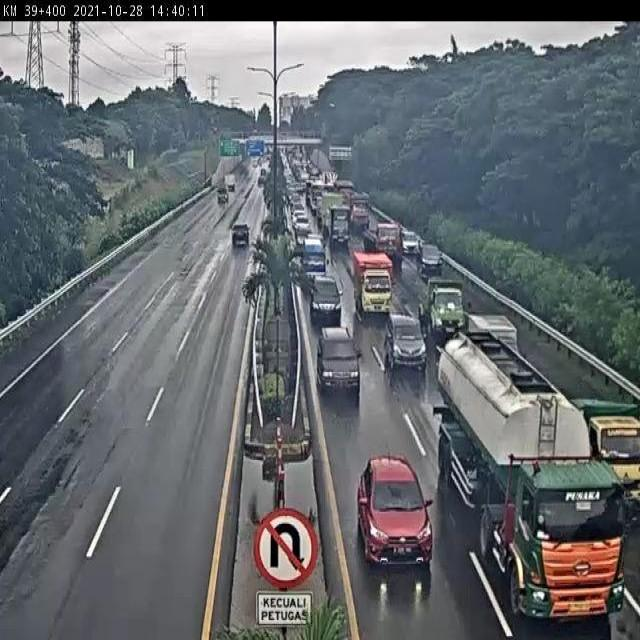bus-s-: (302, 235, 327, 288)
car: (357, 455, 433, 569), (317, 322, 361, 394), (385, 312, 428, 371), (308, 272, 345, 324), (417, 238, 443, 278), (400, 225, 419, 255)
truck-m-: (417, 271, 471, 333), (350, 252, 392, 313)
truck-xl-: (435, 324, 624, 619)
